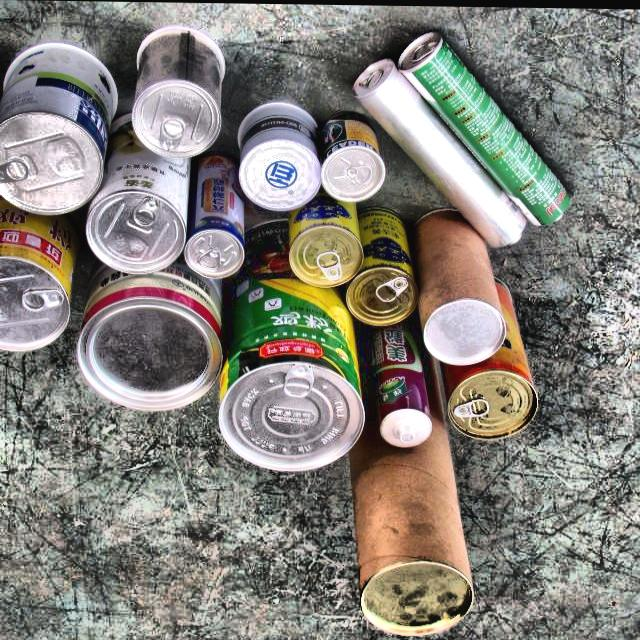can: (345, 55, 549, 251), (393, 31, 591, 223), (215, 279, 371, 482), (71, 263, 233, 425), (0, 34, 123, 221), (80, 110, 202, 278), (443, 268, 538, 452), (130, 26, 230, 158), (0, 209, 80, 371), (348, 557, 480, 640), (229, 98, 320, 214), (179, 153, 247, 287), (337, 210, 413, 329), (285, 186, 368, 293), (373, 315, 435, 454), (414, 289, 514, 368), (314, 117, 394, 206)
